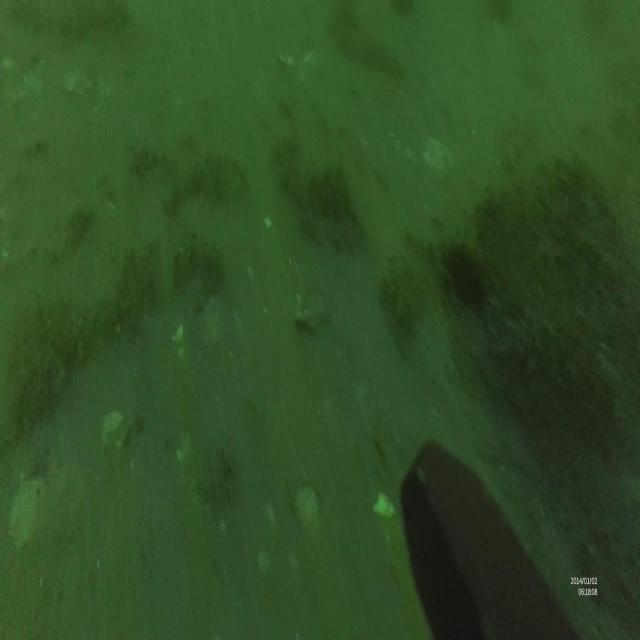echinus: (443, 236, 487, 312)
